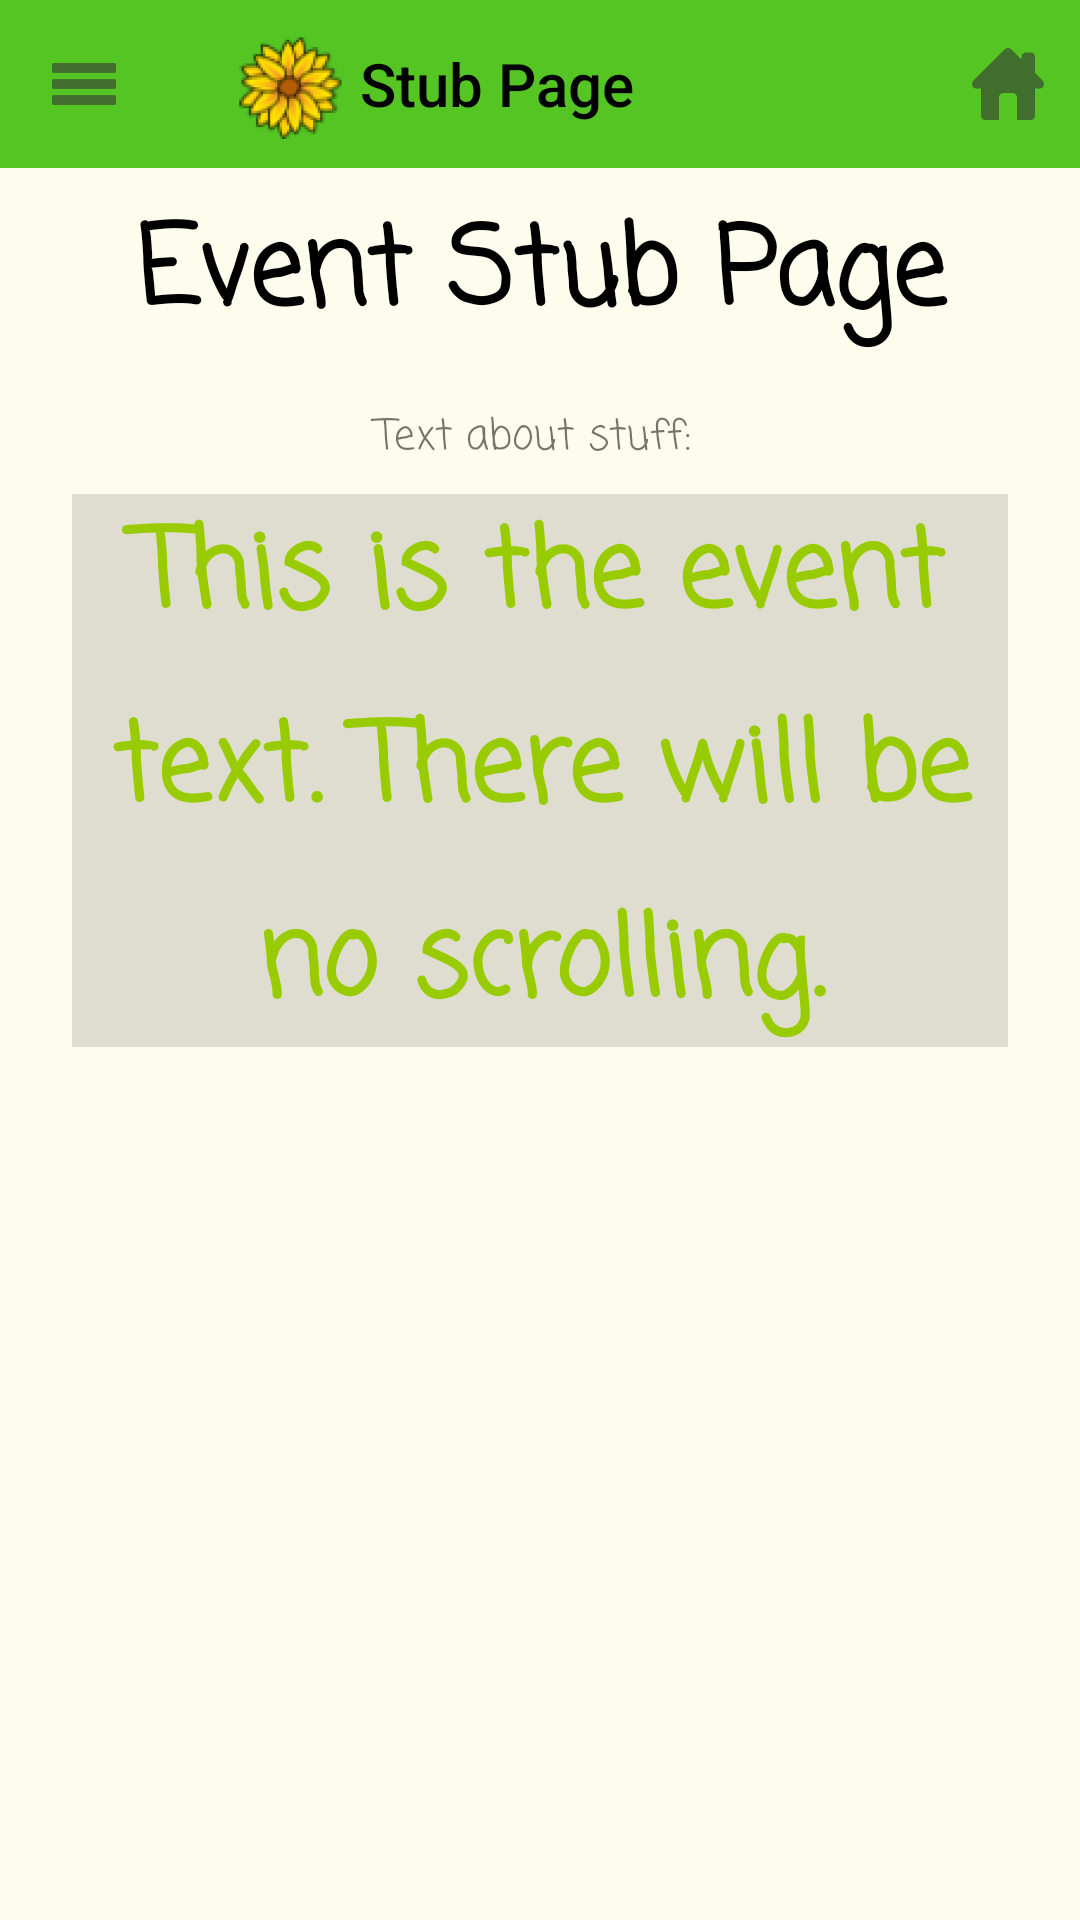

Screen size 1080x1920. Icon name, then its center in pixels as point (x, y):
home: point (1008, 84)
